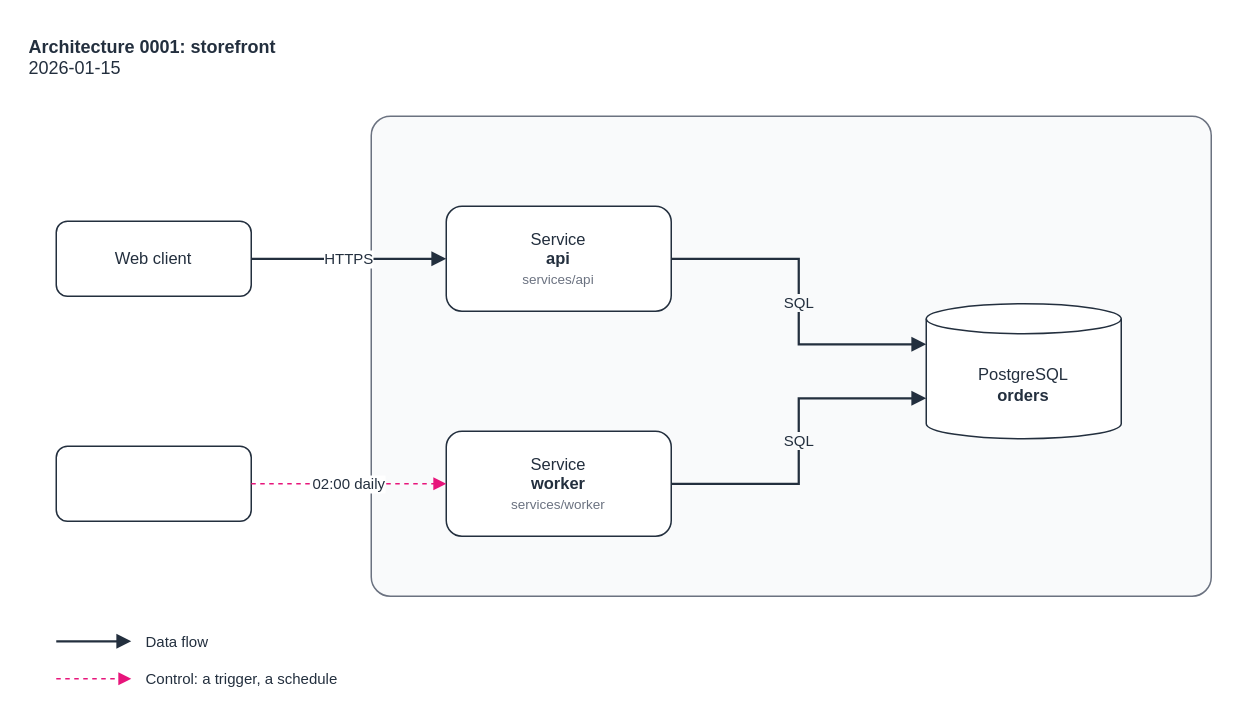
Image size: 1238x717. Some labels were removed from this diagram. The shapes that lost their labels are listed below. From the top down, each one's box as (x1, y1, x2, y2) in pixels, then its label:
(370, 115, 1211, 596): Storefront
(55, 445, 251, 521): Scheduler nightly-export
